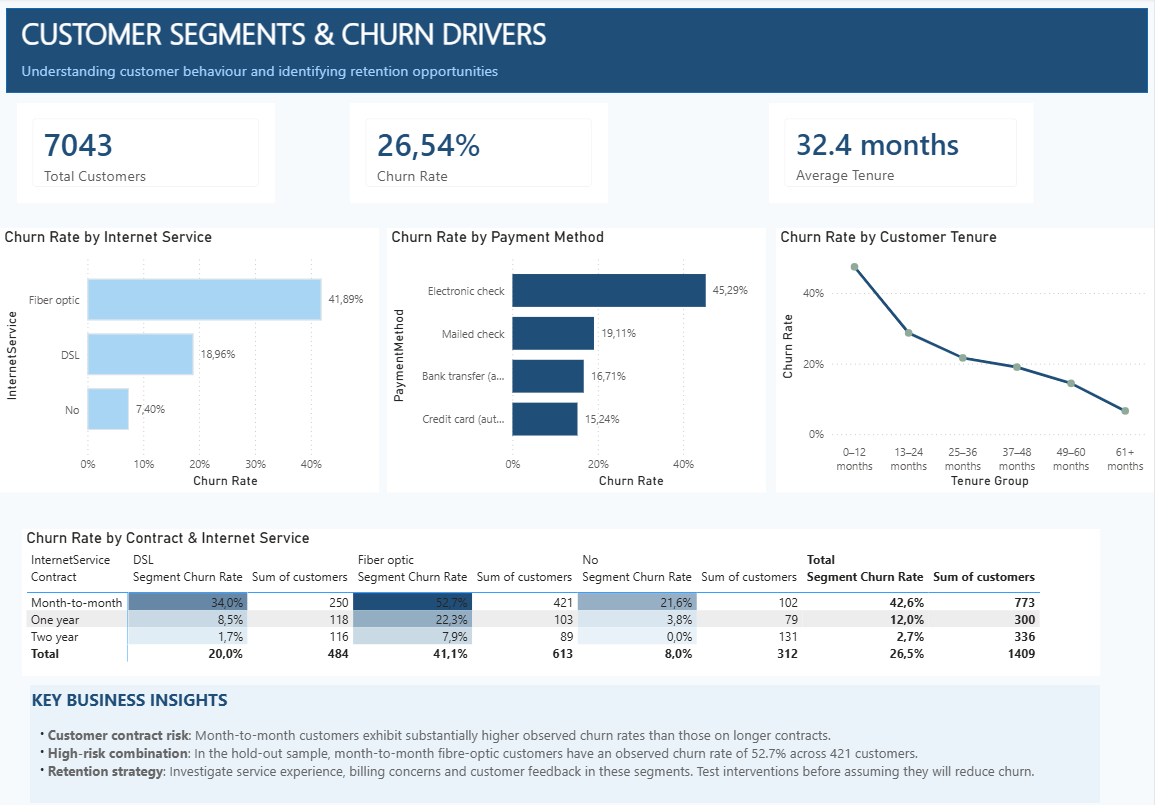

This screenshot's page, from the dashboard's own definition file:
{"tool":"powerbi","page":{"name":"Customer Segments","canvas":[1280,900],"ordinal":1},"visuals":[{"type":"shape","box":[6.7,11.1,1265.8,94.2],"z":1000,"group":"g1"},{"type":"textbox","box":[18.9,64.3,547.5,41],"z":13000,"group":"g1"},{"type":"textbox","box":[18.9,11.1,647.3,53.2],"z":14000,"group":"g1"},{"type":"group","id":"g1","title":"Group 1","box":[6.7,11.1,1265.8,94.2],"z":14001},{"type":"cardVisual","fields":{"Data":["CrossValidation.Total Customers"]},"box":[18.8,116.4,286,110.8],"z":14003},{"type":"cardVisual","fields":{"Data":["CrossValidation.Churn Rate"]},"box":[387.9,116.4,286,110.8],"z":14004},{"type":"cardVisual","fields":{"Data":["CrossValidation.Average Tenure Display"]},"box":[852.3,116.4,292.6,110.8],"z":14005},{"type":"clusteredBarChart","title":"Churn Rate by Internet Service","fields":{"Category":["Customers.InternetService"],"Y":["CrossValidation.Churn Rate"]},"box":[0,254.9,420.1,292.6],"z":14006},{"type":"clusteredBarChart","title":"Churn Rate by Payment Method","fields":{"Category":["Customers.PaymentMethod"],"Y":["CrossValidation.Churn Rate"]},"box":[428.9,254.9,420.1,292.6],"z":14007},{"type":"lineChart","title":"Churn Rate by Customer Tenure","fields":{"Category":["Customers.Tenure Group"],"Y":["CrossValidation.Churn Rate"]},"box":[860.1,254.9,420.1,292.6],"z":14008},{"type":"pivotTable","title":"Churn Rate by Contract & Internet Service","fields":{"Rows":["Segments.Contract"],"Columns":["Segments.InternetService"],"Values":["CrossValidation.Segment Churn Rate","Sum(Segments.customers)"]},"box":[24.4,588.5,1194.8,162.9],"z":14009},{"type":"shape","box":[33.2,761.4,1186,130.8],"z":14010,"group":"g2"},{"type":"textbox","box":[29.9,759.2,1180.4,133],"z":14011,"group":"g2"},{"type":"group","id":"g2","title":"Group 2","box":[29.9,759.2,1189.3,133],"z":14012}]}

Visuals, with their boxes in screenshot pixels (x1, y1, x2, y2), scaled from the page's 1280x900 canvas onto the 1155x805 screenshot:
shape: Rect(6, 10, 1148, 94)
textbox: Rect(17, 58, 511, 94)
textbox: Rect(17, 10, 601, 58)
"Group 1" group: Rect(6, 10, 1148, 94)
cardVisual - CrossValidation.Total Customers: Rect(17, 104, 275, 203)
cardVisual - CrossValidation.Churn Rate: Rect(350, 104, 608, 203)
cardVisual - CrossValidation.Average Tenure Display: Rect(769, 104, 1033, 203)
"Churn Rate by Internet Service" clusteredBarChart: Rect(0, 228, 379, 490)
"Churn Rate by Payment Method" clusteredBarChart: Rect(387, 228, 766, 490)
"Churn Rate by Customer Tenure" lineChart: Rect(776, 228, 1154, 490)
"Churn Rate by Contract & Internet Service" pivotTable: Rect(22, 526, 1100, 672)
shape: Rect(30, 681, 1100, 798)
textbox: Rect(27, 679, 1092, 798)
"Group 2" group: Rect(27, 679, 1100, 798)
